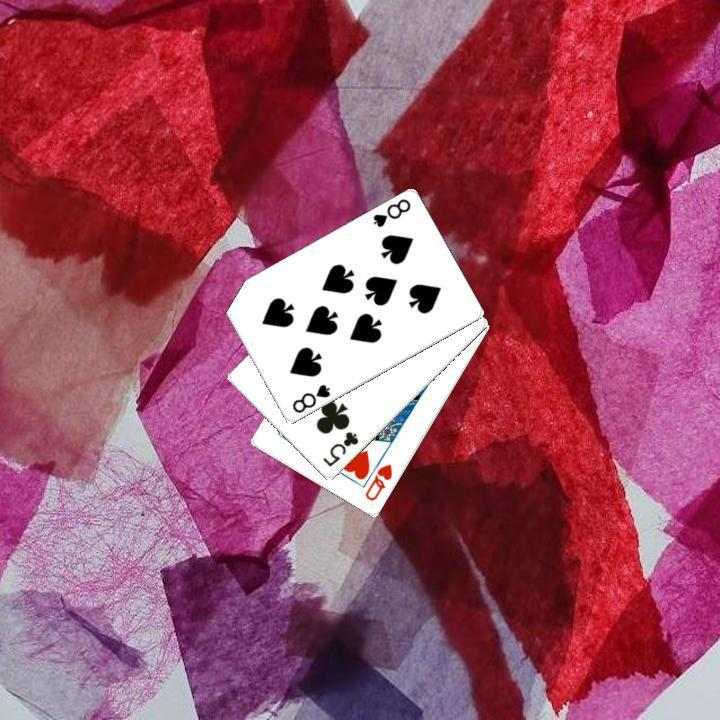5: (318, 427, 361, 469)
8: (368, 194, 413, 230), (288, 380, 332, 416)
Q: (361, 460, 395, 503)
